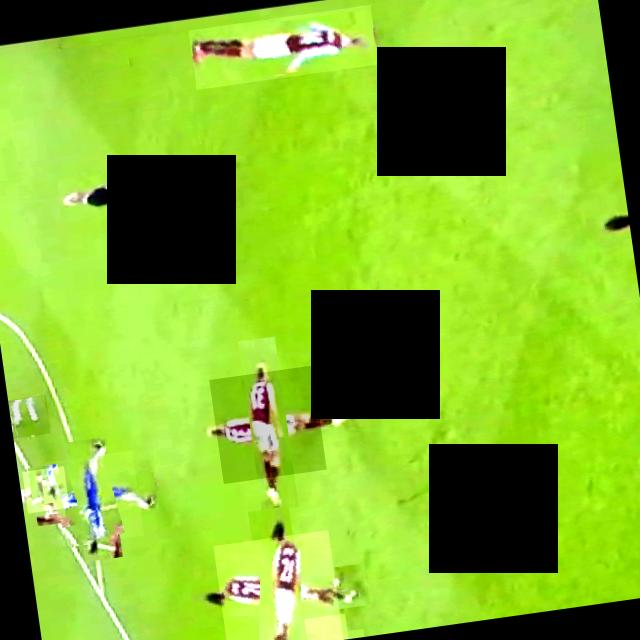referee: (57, 158, 217, 222)
soccer-player: (188, 4, 379, 89), (213, 529, 343, 640), (209, 365, 327, 483), (47, 449, 144, 546), (22, 466, 70, 512), (8, 394, 51, 438), (304, 612, 348, 640)
